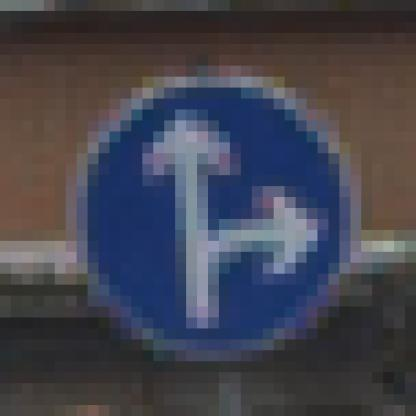Straight or Right: (67, 67, 351, 362)
